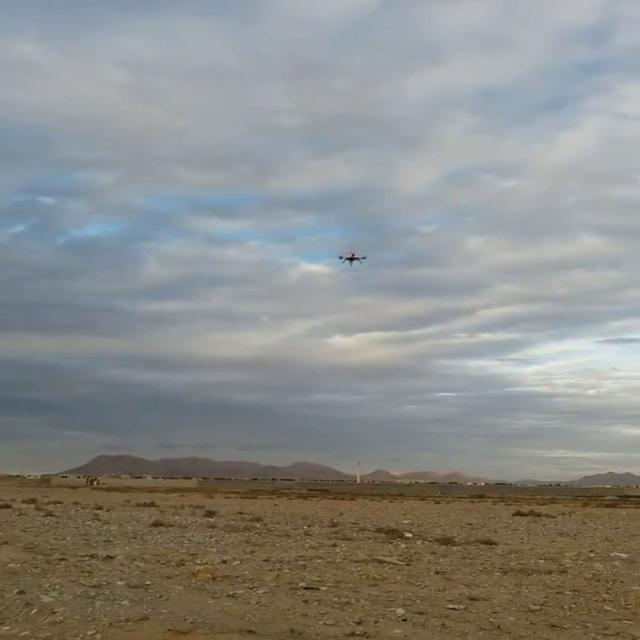drone: (333, 248, 371, 268)
